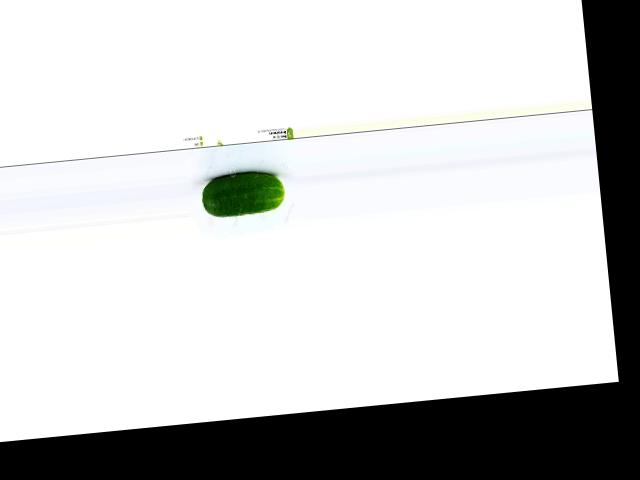cucumber: (199, 169, 285, 218)
